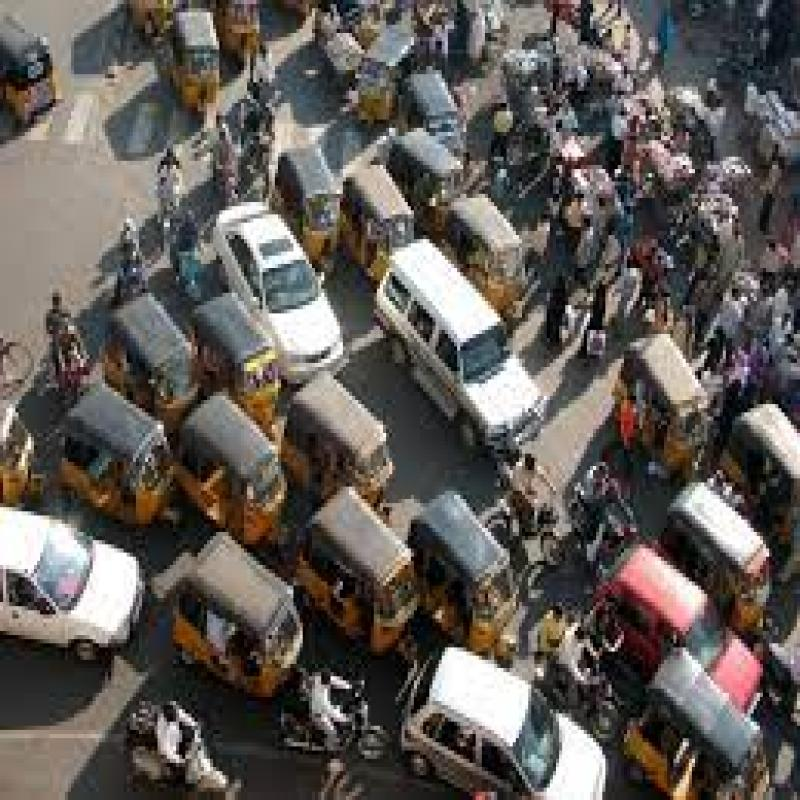car: (374, 622, 587, 800), (384, 222, 515, 466), (211, 194, 353, 407), (0, 486, 142, 662)
